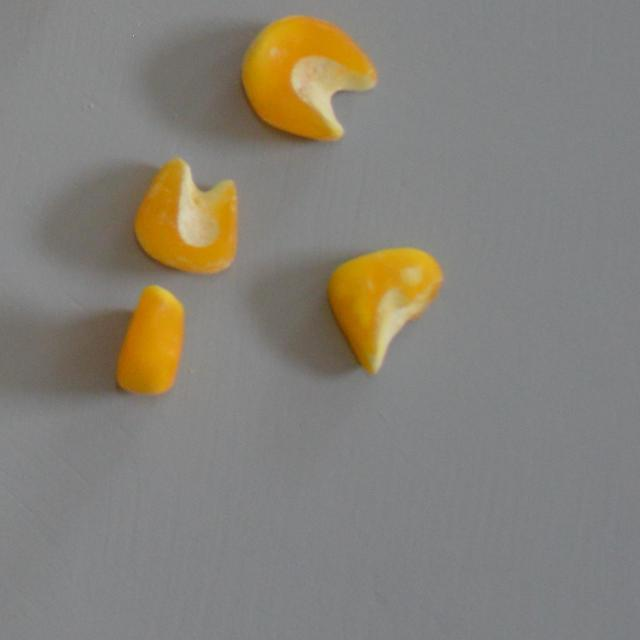estandar: (112, 284, 186, 396)
no_canjicado: (239, 12, 378, 140), (328, 244, 441, 376)
pelicula: (134, 157, 241, 274)
